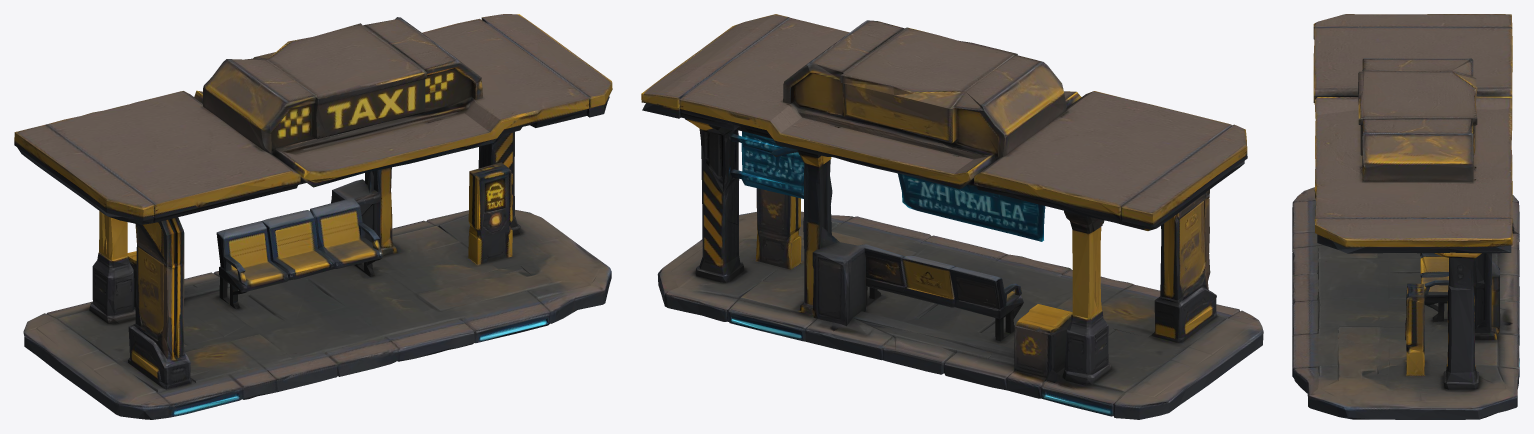
The model's file is escena.gltf.
3 views of the same model, side by side, from view 1: azimuth 30°, elevation 25°; view 2: azimuth 150°, elevation 25°; view 3: azimuth 270°, elevation 25° (orthographic). The views are drawn at different scales.
Parts seen in each view (by area): view 1: tripo_node_ade970c1-cab8-4c2d-9d70-9f575e0b0695; view 2: tripo_node_ade970c1-cab8-4c2d-9d70-9f575e0b0695; view 3: tripo_node_ade970c1-cab8-4c2d-9d70-9f575e0b0695.
Boxes of the visible parts, bbox=[...] form: tripo_node_ade970c1-cab8-4c2d-9d70-9f575e0b0695: bbox=[14, 14, 612, 419]; tripo_node_ade970c1-cab8-4c2d-9d70-9f575e0b0695: bbox=[641, 14, 1263, 419]; tripo_node_ade970c1-cab8-4c2d-9d70-9f575e0b0695: bbox=[1292, 14, 1519, 419].
Bounding box in the file's own units: 7.74 × 3.62 × 3.34.
1 material, 1 textured.
